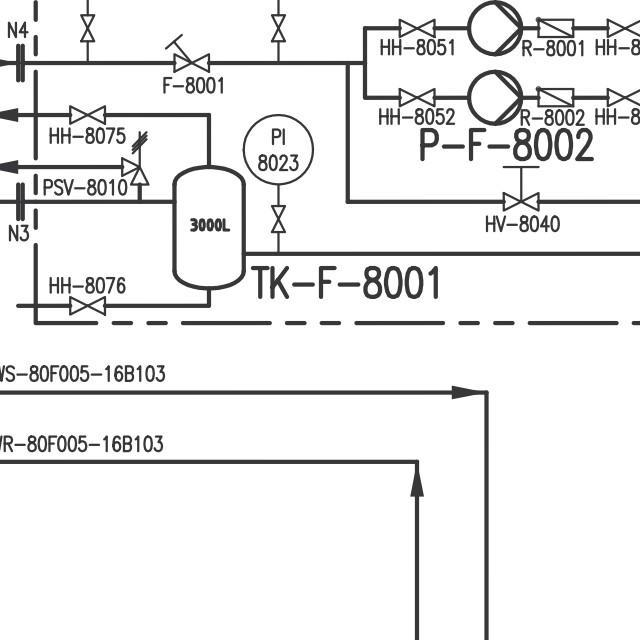GV: (65, 293, 108, 317), (392, 19, 440, 39), (395, 85, 438, 107), (68, 103, 108, 126), (76, 9, 99, 46), (267, 201, 290, 238), (606, 16, 640, 39), (268, 9, 288, 46), (606, 86, 640, 107)
HVWT: (499, 160, 546, 215)
P: (463, 65, 525, 124), (466, 0, 523, 53)
RPV: (118, 130, 155, 188)
S: (163, 31, 215, 76)
TK: (168, 160, 248, 291)
